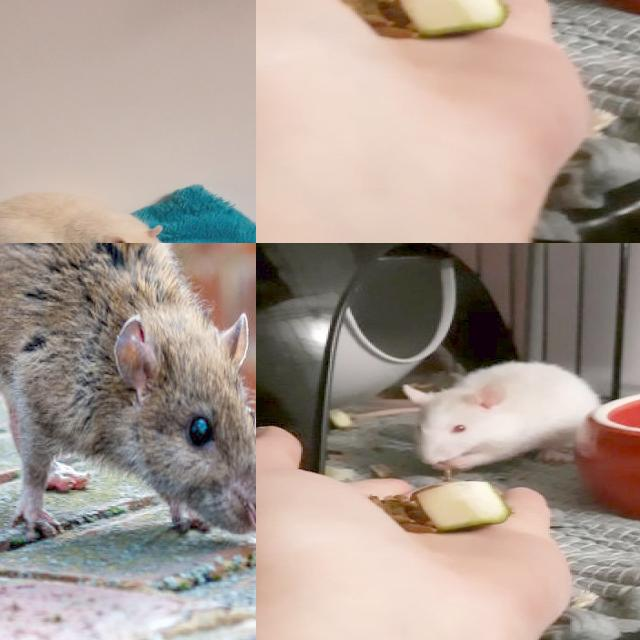rat: (0, 243, 256, 536), (402, 363, 593, 471), (0, 190, 171, 243)
